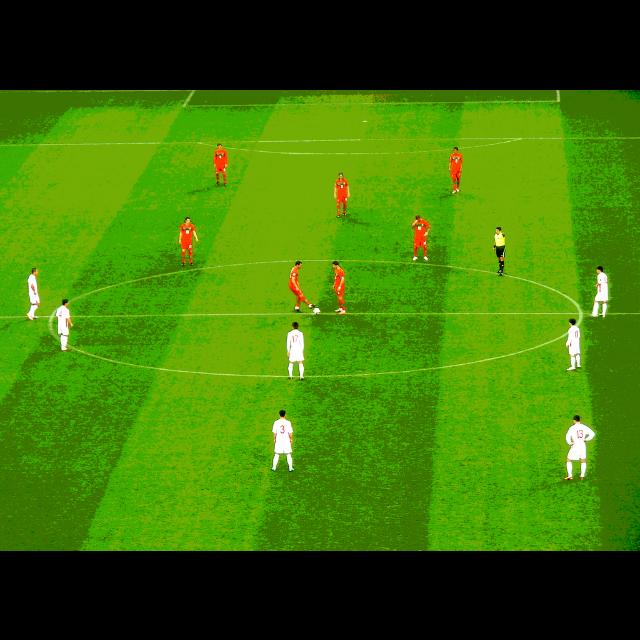Football: (310, 304, 320, 314)
